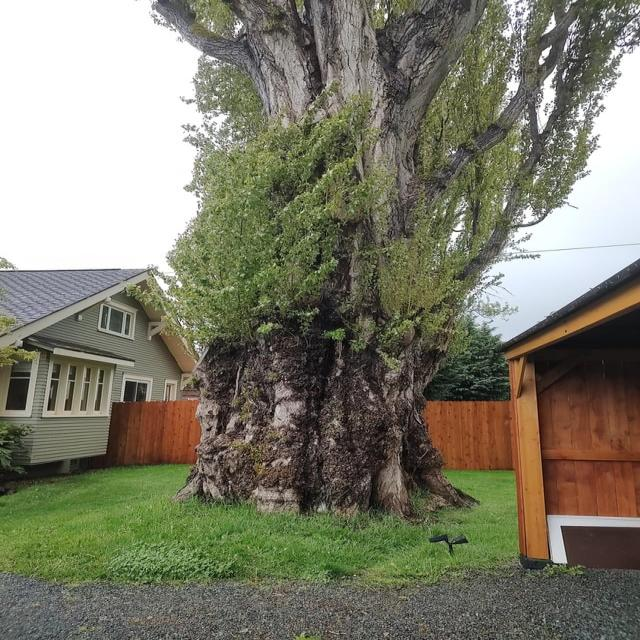Populus nigra: (148, 0, 624, 494)
